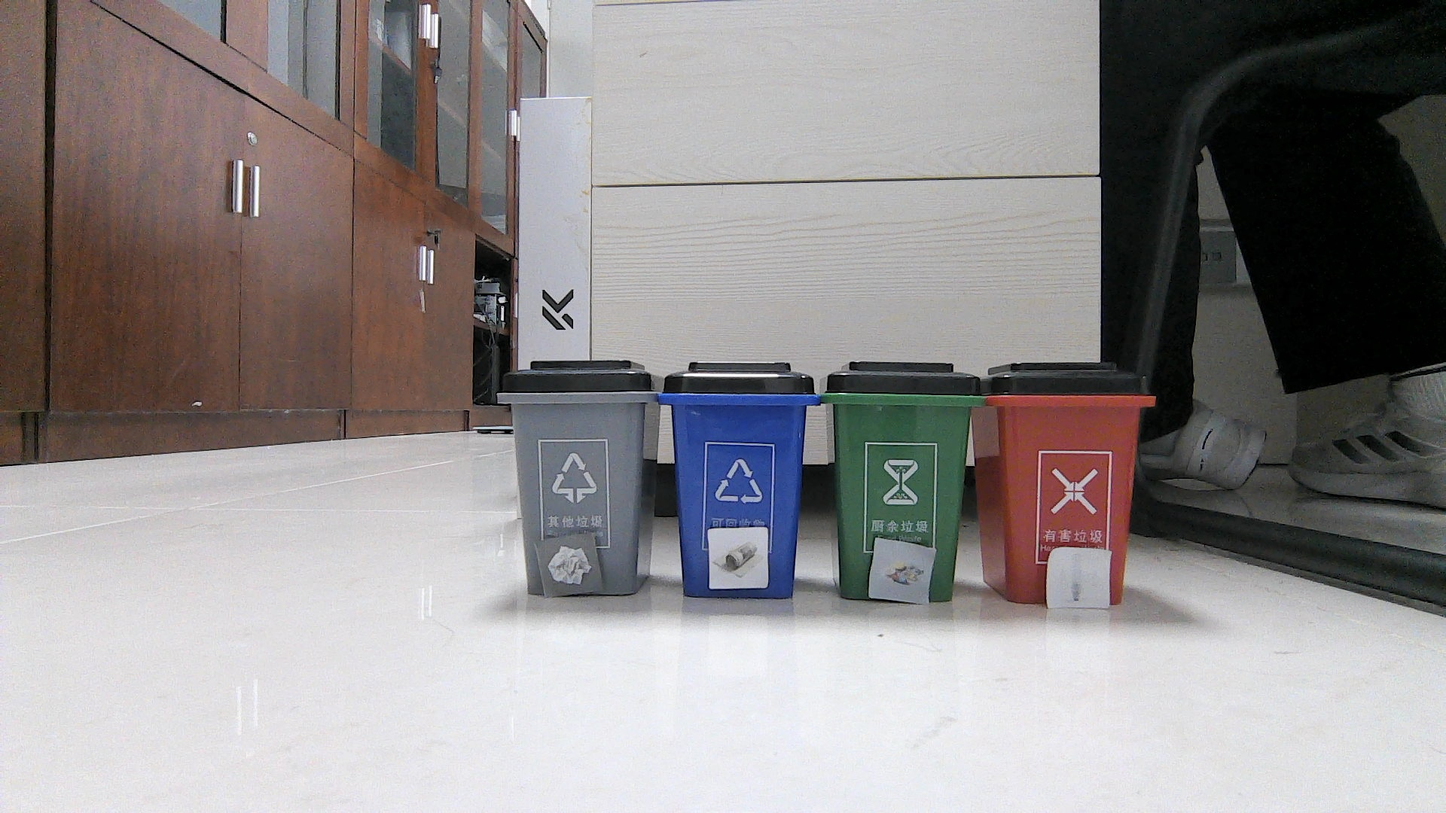hazardous_trash: (875, 544, 929, 599), (1052, 551, 1105, 605)
other_trash: (538, 543, 595, 591)
recyclable_trash: (712, 530, 765, 586)
